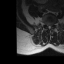CCS_severe_stenosis: (49, 23, 50, 29)
LFS_stenosis: (51, 22, 53, 27)
LLS_normal: (50, 23, 51, 28)
RFS_severe_stenosis: (45, 22, 47, 27)
RLS_normal: (47, 23, 49, 28)
